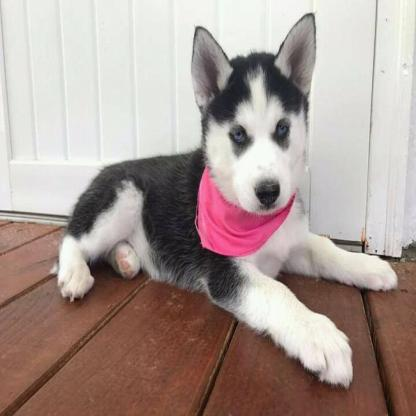husky: (57, 11, 397, 386)
